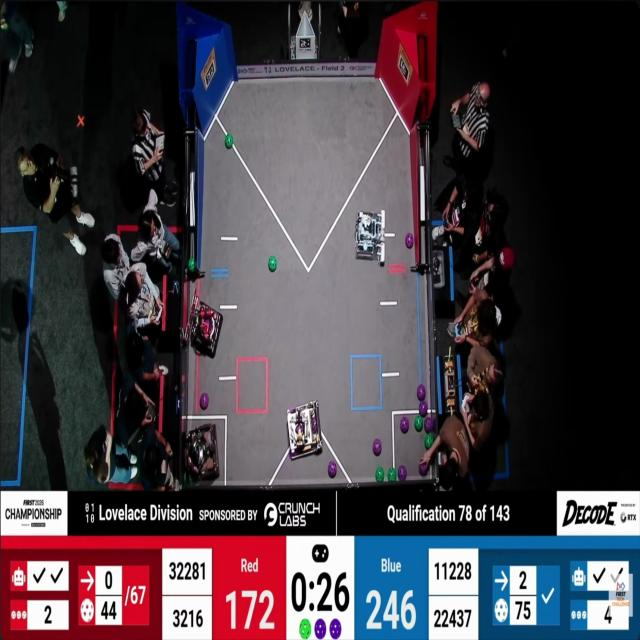artifact_green: (300, 619, 311, 639), (414, 415, 423, 431), (376, 467, 385, 482), (425, 433, 433, 449), (269, 256, 277, 272), (419, 462, 428, 476), (225, 134, 233, 149), (388, 468, 397, 481), (189, 258, 195, 271)
artifact_purple: (330, 619, 341, 639), (315, 619, 326, 639), (328, 461, 337, 478), (400, 416, 409, 433), (419, 400, 428, 417), (373, 439, 382, 455), (200, 393, 208, 410), (417, 384, 425, 401), (425, 417, 434, 432), (398, 465, 406, 481), (406, 233, 414, 249), (419, 463, 428, 476), (296, 424, 304, 434), (312, 418, 317, 433), (289, 408, 295, 413)
